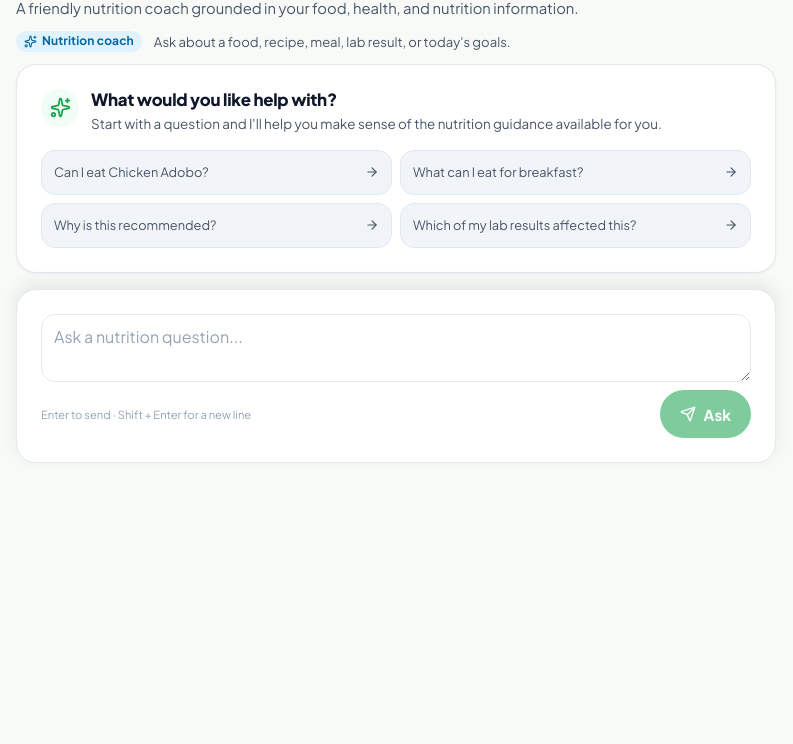
Test: ConsultationPage clarification flow › renders deterministic food evaluation in an answer-first, partial-evaluation layout
Type "Can I eat bananas?" into the text box named "Your nutrition question".
click(396, 348); type("Can I eat bananas?")  # box [41,314,751,382]
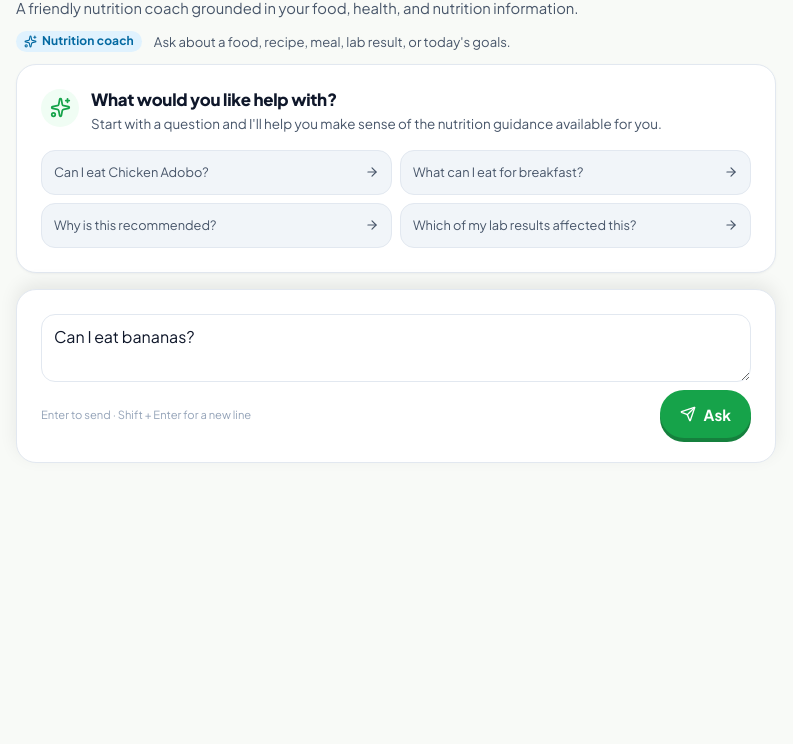
Click the button "Ask".
click(705, 414)  # box [660,390,751,438]
(page scrolled)
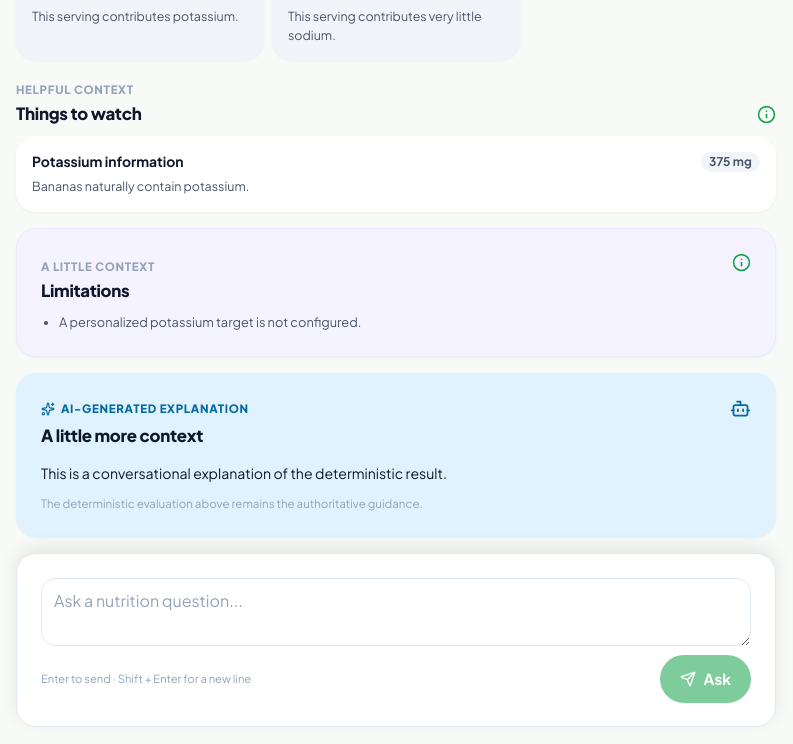
Check: the text "Potassium information" is shown, box [32,152,184,172]
Check: the element named "Evaluation limitations" shows "personalized potassium target", box [59,314,361,330]
Check: the element "AI-generated explanation" shows "authoritative", box [41,496,423,511]
